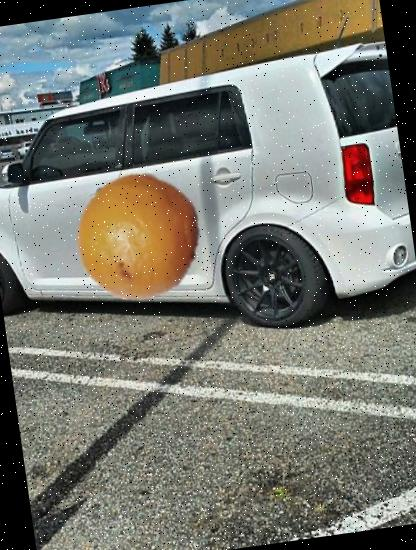Lemon: (66, 164, 211, 310)
